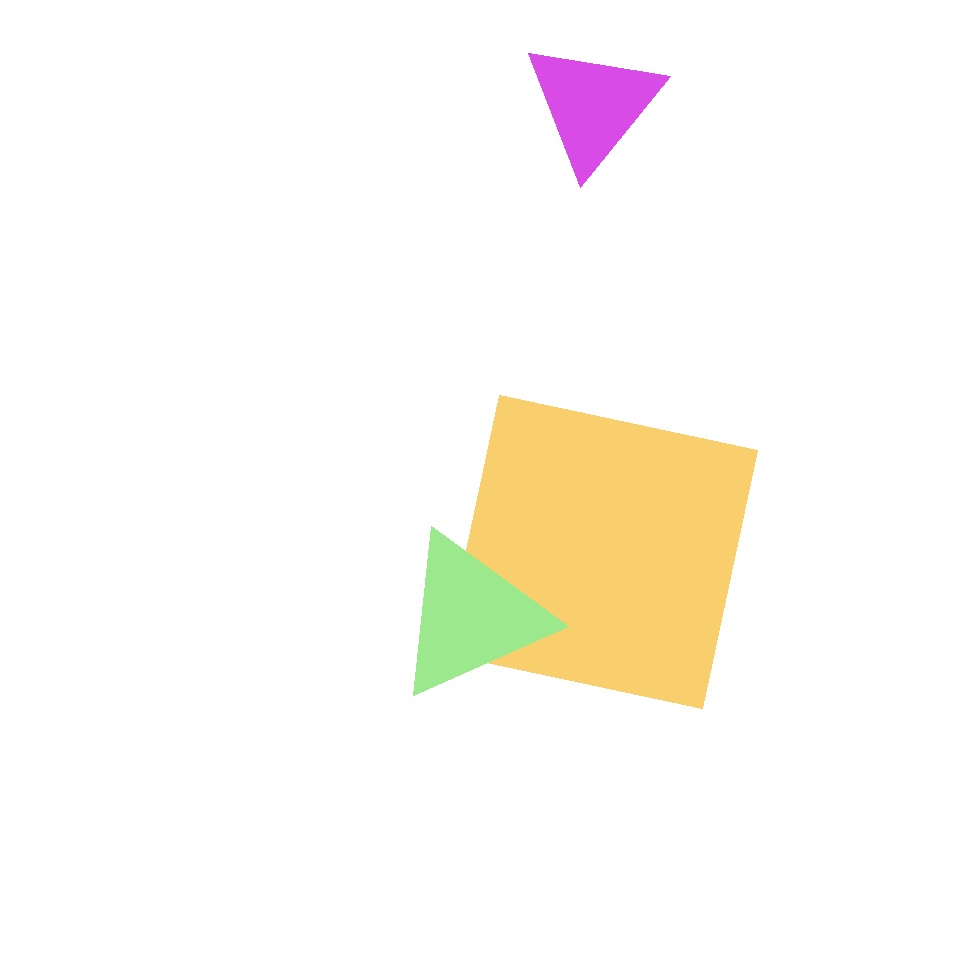circle: (393, 532, 548, 700), (153, 240, 299, 386), (522, 39, 664, 173)
square: (546, 584, 860, 898), (445, 395, 758, 708), (278, 62, 436, 220), (50, 190, 190, 330)
triangle: (26, 376, 390, 742), (260, 185, 560, 484)
